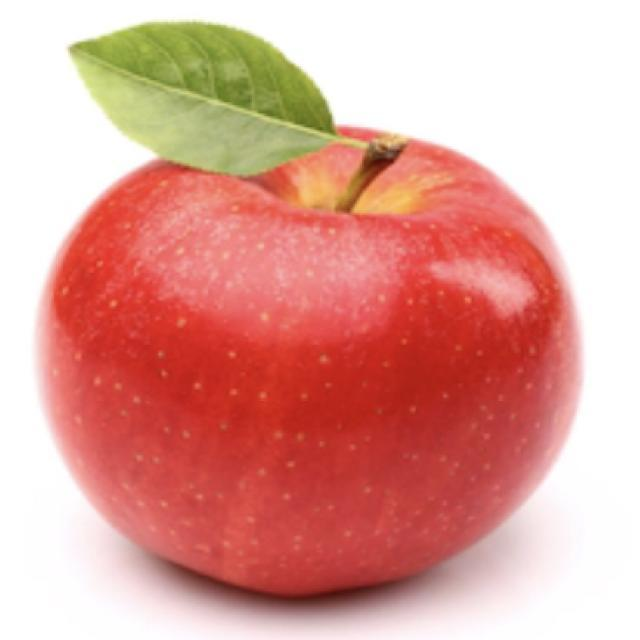Fresh Apple: (75, 150, 577, 580)
